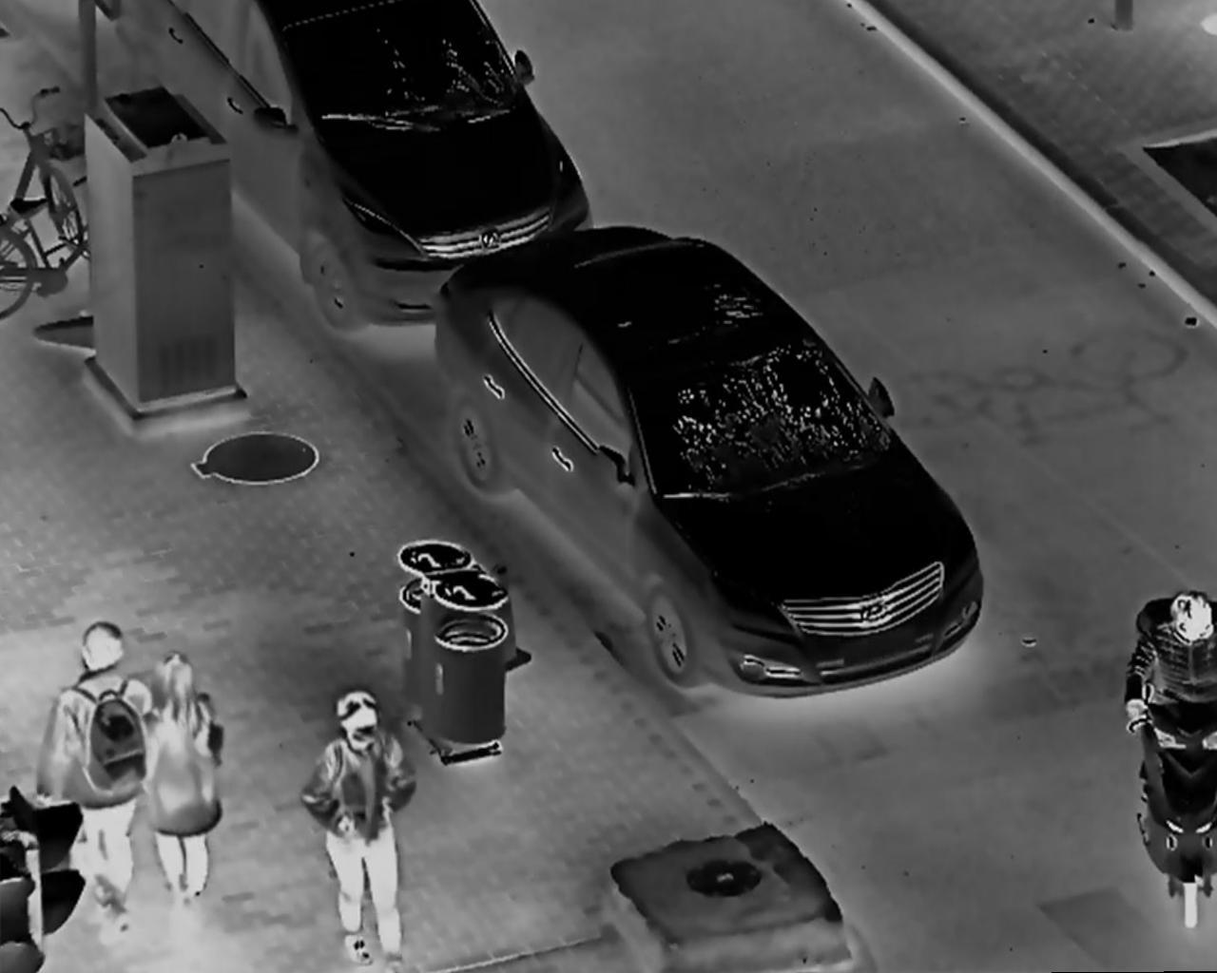person: (36, 619, 155, 940), (304, 687, 435, 973), (1126, 587, 1217, 848), (138, 652, 227, 917)
